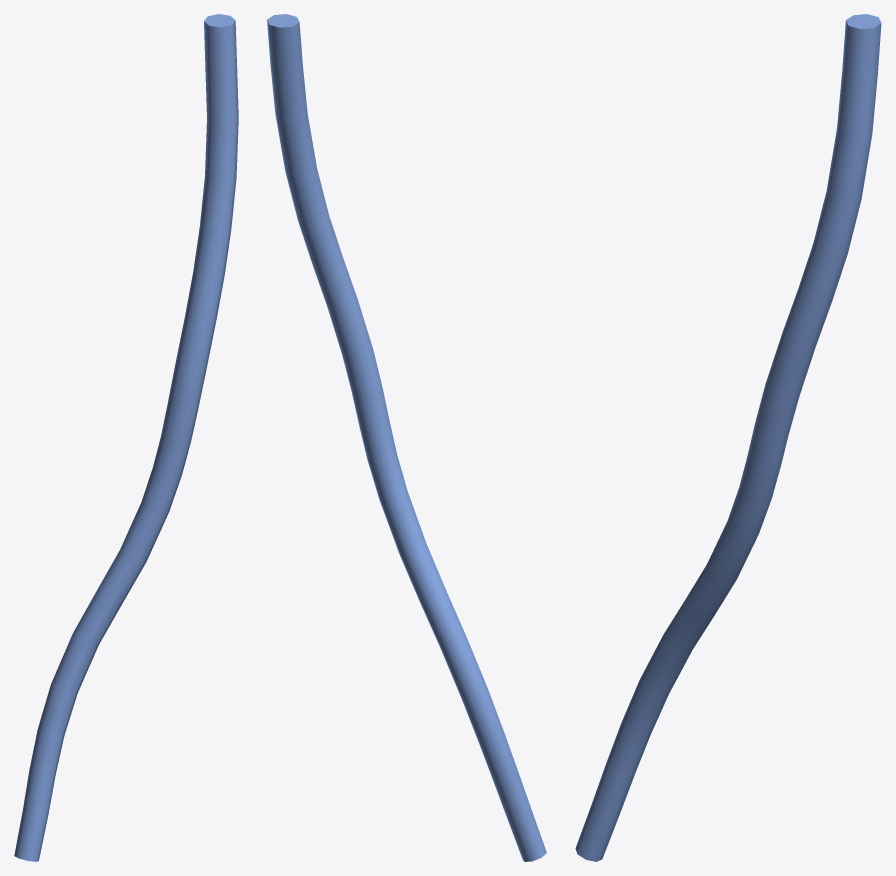
Rendered from veines-brachiales.glb.
3 renders of one model, left to right at view 1: azimuth 30°, elevation 25°; view 2: azimuth 150°, elevation 25°; view 3: azimuth 330°, elevation 25°, orthographic. The views are drawn at different scales.
Visible parts, largest first — view 1: veines-brachiales; view 2: veines-brachiales; view 3: veines-brachiales.
Boxes of the visible parts, <box> form: veines-brachiales: <box>14,14,238,861</box>; veines-brachiales: <box>267,14,546,861</box>; veines-brachiales: <box>575,14,881,861</box>.
Bounding box in the file's own units: 0.0436 × 0.1336 × 0.0119.
